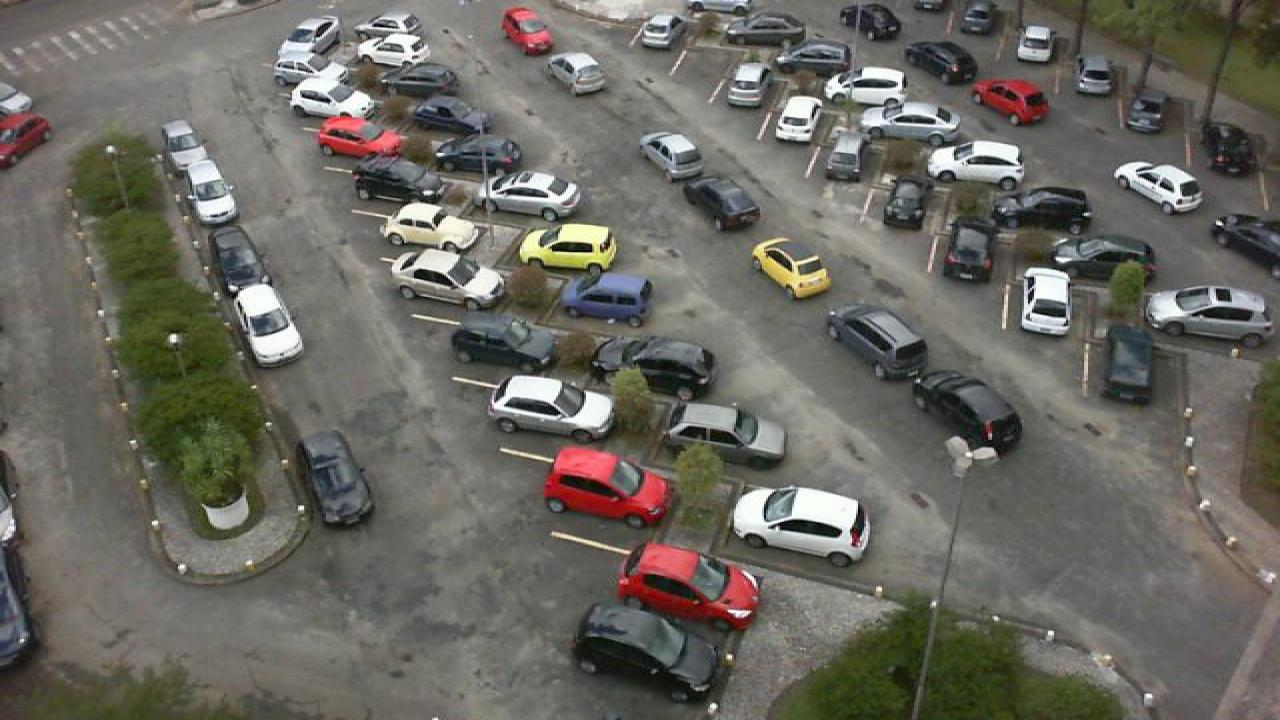Car: (570, 602, 724, 705), (614, 542, 764, 630), (728, 484, 874, 567), (542, 446, 676, 530), (910, 368, 1028, 454), (824, 300, 932, 382), (660, 402, 790, 468), (490, 372, 618, 439), (1144, 284, 1276, 344), (294, 431, 374, 529), (598, 335, 720, 398), (388, 248, 508, 310), (230, 282, 306, 368), (1048, 233, 1158, 286), (514, 222, 618, 276), (558, 270, 656, 327), (384, 201, 488, 253), (448, 317, 554, 368), (752, 238, 836, 300), (922, 140, 1026, 190), (992, 187, 1096, 236), (1112, 161, 1206, 215), (1096, 324, 1156, 406), (484, 170, 584, 218), (858, 100, 962, 145), (684, 174, 764, 230), (350, 154, 440, 203), (1208, 213, 1280, 272), (432, 132, 524, 178), (208, 226, 268, 294), (180, 160, 240, 226), (1020, 266, 1074, 338), (972, 78, 1050, 127), (316, 115, 404, 158), (288, 78, 374, 122), (900, 40, 980, 86), (826, 66, 908, 109), (410, 94, 490, 138), (940, 223, 996, 282), (0, 111, 54, 170), (640, 130, 706, 178), (1204, 121, 1260, 176), (776, 38, 852, 78), (878, 178, 932, 233), (378, 62, 460, 98), (544, 50, 608, 96), (720, 12, 806, 46), (158, 118, 214, 168), (770, 95, 826, 145), (836, 2, 902, 44), (502, 7, 556, 57), (280, 15, 340, 58), (270, 54, 338, 91), (354, 37, 430, 68), (1122, 88, 1172, 134), (722, 63, 772, 108), (824, 130, 864, 184), (636, 12, 688, 52), (1076, 52, 1118, 96), (356, 11, 410, 43), (1014, 25, 1058, 64), (956, 0, 1000, 36), (686, 0, 750, 19)
